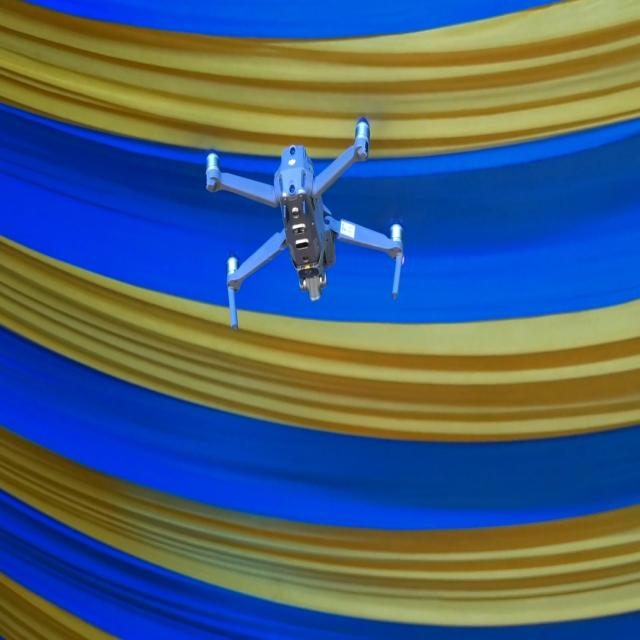Drone: (206, 118, 410, 338)
